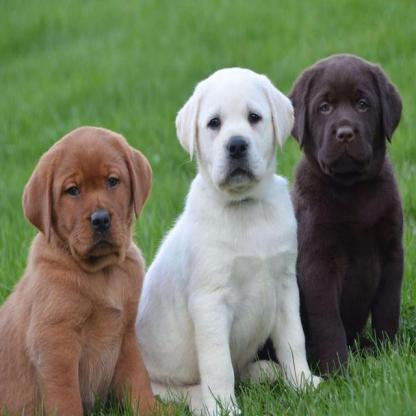Labarador Retriever: (146, 71, 322, 416), (0, 126, 153, 416), (282, 55, 414, 369)
